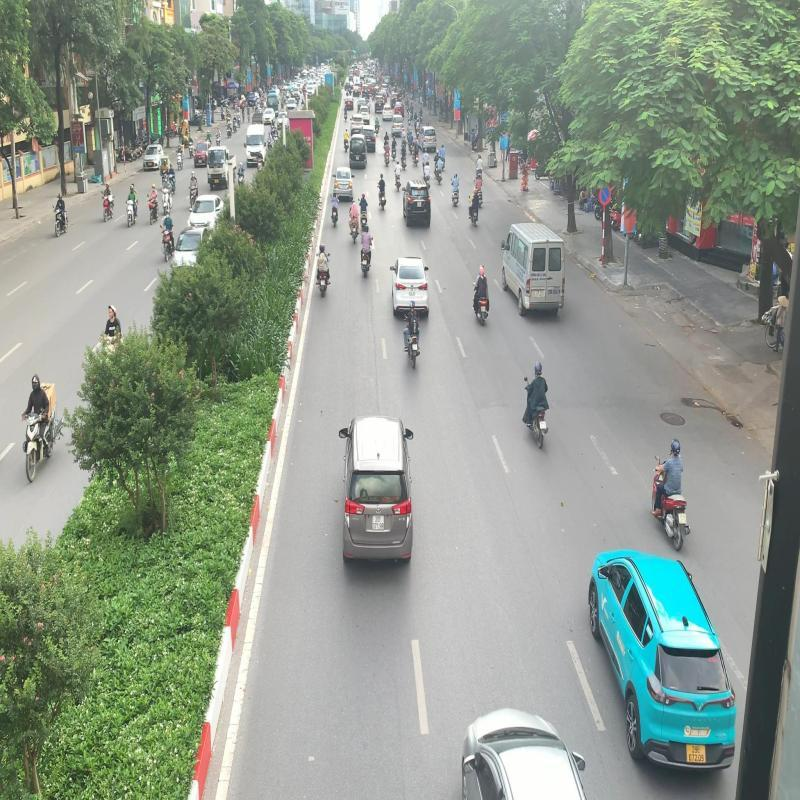helmet: (670, 438, 681, 456), (534, 362, 542, 376), (409, 299, 415, 310)
licenseplate: (678, 514, 687, 524), (540, 420, 546, 430), (412, 344, 418, 350)
motorcyclist: (650, 438, 692, 552), (522, 360, 550, 450), (403, 300, 421, 368)
